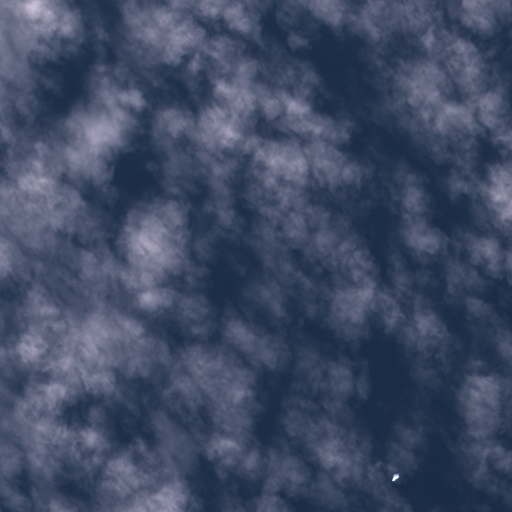Iceberg: (392, 473, 399, 481)
